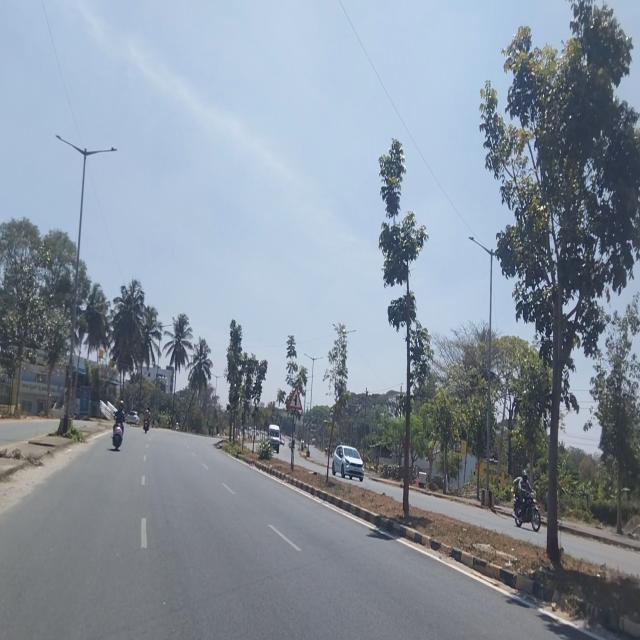bien_cam: (288, 385, 303, 412)
